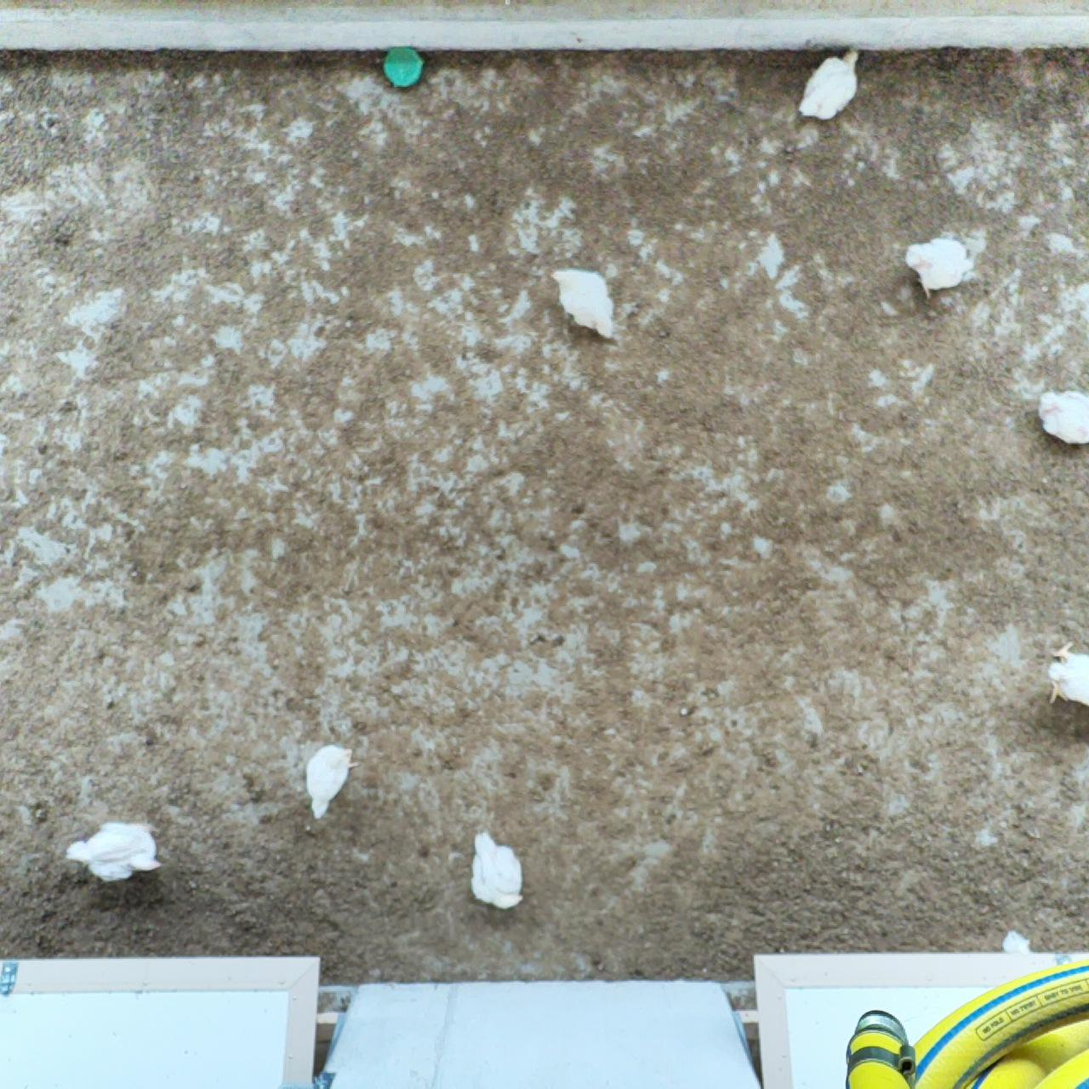chicken: (64, 816, 160, 889), (794, 46, 865, 124), (467, 825, 530, 912), (547, 265, 616, 341), (901, 233, 978, 300), (304, 741, 363, 820), (1034, 382, 1089, 447), (1041, 636, 1089, 709)
